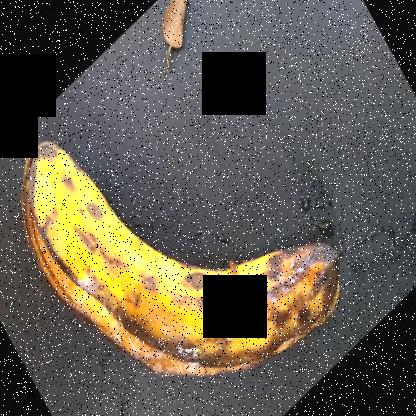rotten: (14, 134, 352, 409)
